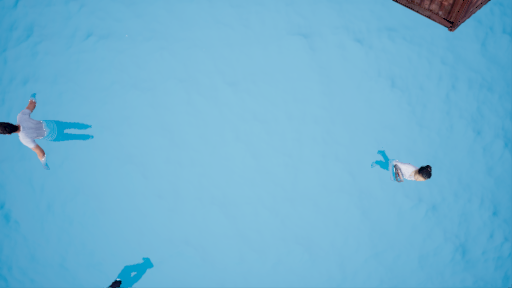person: (5, 98, 100, 165), (363, 150, 438, 191)
